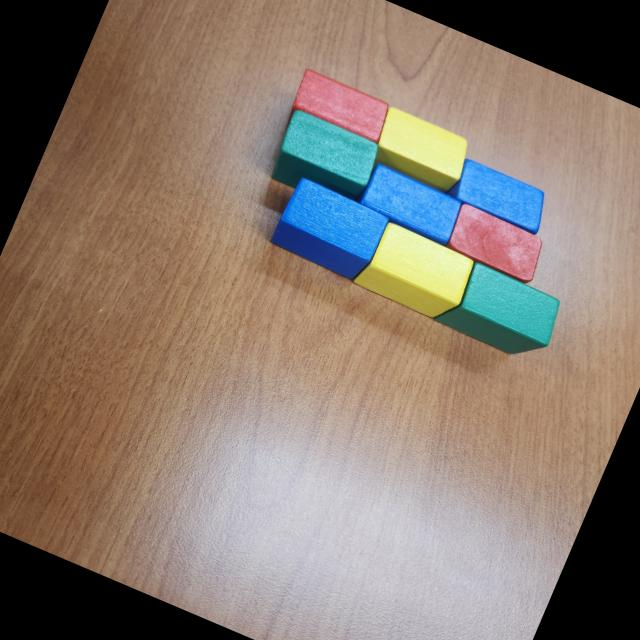blue: (266, 173, 392, 284), (352, 160, 465, 247), (442, 155, 553, 236)
green: (428, 254, 566, 368), (264, 107, 384, 214)
red: (280, 68, 396, 165), (440, 202, 549, 286)
yellow: (350, 216, 480, 326), (364, 105, 475, 196)
